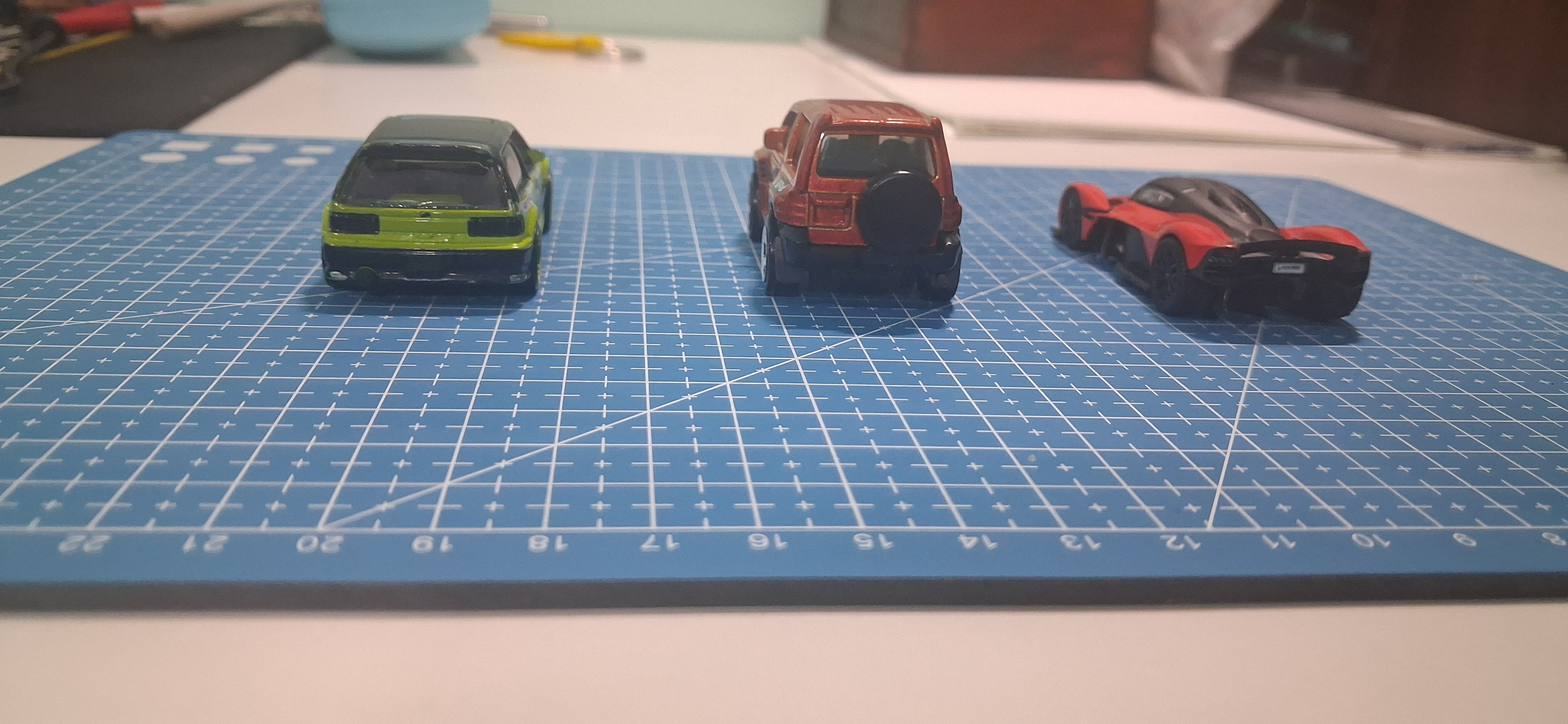Aston_Martin_Valkyrie: (1062, 147, 1415, 381)
Honda_Civic: (275, 99, 602, 347)
Mitsubishi_Pajero_Evolution: (718, 82, 1031, 342)
